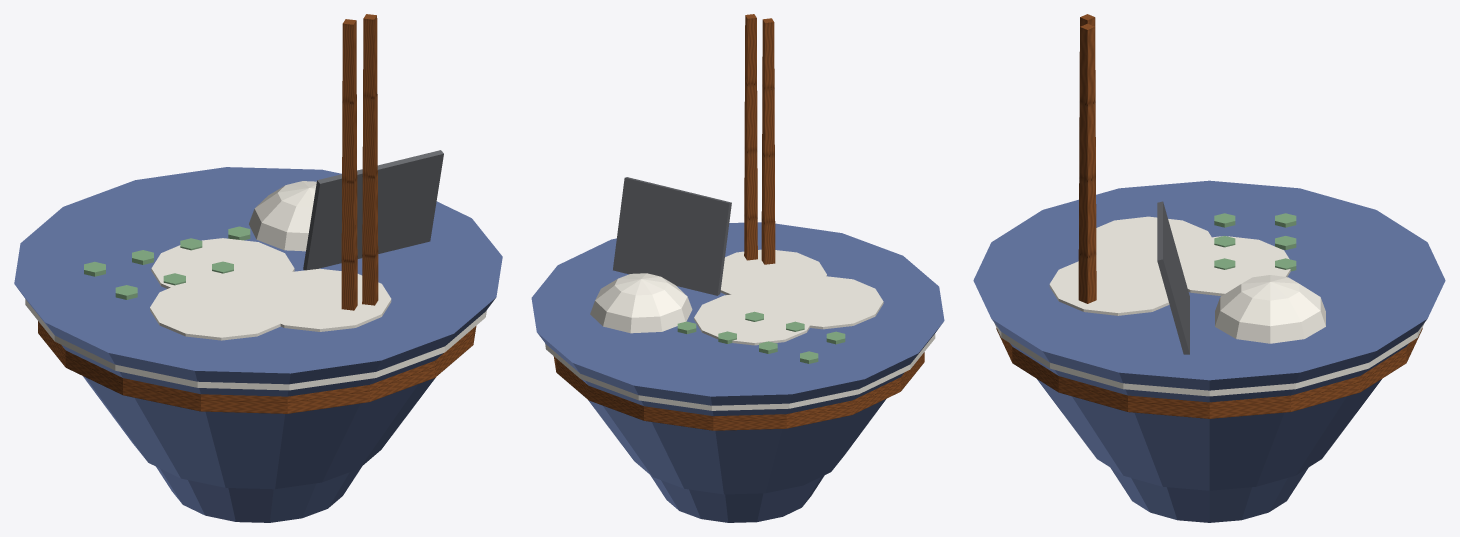
The model's file is izakaya-alley-and-ramen-shop-bowl-of-ramen-48b66069.glb.
3 renders of one model, left to right at view 1: azimuth 30°, elevation 25°; view 2: azimuth 150°, elevation 25°; view 3: azimuth 270°, elevation 25°, orthographic. The views are drawn at different scales.
Parts seen in each view (by area): view 1: bowl-of-ramen-indigo, bowl-of-ramen-cream, bowl-of-ramen-timber, bowl-of-ramen-charcoal, bowl-of-ramen-leaf; view 2: bowl-of-ramen-indigo, bowl-of-ramen-cream, bowl-of-ramen-timber, bowl-of-ramen-charcoal, bowl-of-ramen-leaf; view 3: bowl-of-ramen-indigo, bowl-of-ramen-cream, bowl-of-ramen-timber, bowl-of-ramen-charcoal, bowl-of-ramen-leaf.
Boxes of the visible parts, left/top/right/bottom form: bowl-of-ramen-indigo: left=14, top=167, right=502, bottom=522; bowl-of-ramen-cream: left=25, top=181, right=486, bottom=390; bowl-of-ramen-timber: left=38, top=14, right=476, bottom=413; bowl-of-ramen-charcoal: left=303, top=150, right=443, bottom=270; bowl-of-ramen-leaf: left=84, top=226, right=250, bottom=299; bowl-of-ramen-indigo: left=531, top=222, right=944, bottom=522; bowl-of-ramen-cream: left=545, top=249, right=935, bottom=410; bowl-of-ramen-timber: left=553, top=14, right=924, bottom=430; bowl-of-ramen-charcoal: left=613, top=177, right=731, bottom=295; bowl-of-ramen-leaf: left=677, top=311, right=845, bottom=363; bowl-of-ramen-indigo: left=973, top=180, right=1445, bottom=522; bowl-of-ramen-cream: left=994, top=216, right=1424, bottom=396; bowl-of-ramen-timber: left=996, top=14, right=1422, bottom=418; bowl-of-ramen-charcoal: left=1157, top=201, right=1189, bottom=354; bowl-of-ramen-leaf: left=1214, top=213, right=1296, bottom=271.
Size of the model in its own units: 0.31 by 0.35 by 0.31.
Materials: 6 (1 with a texture image).
